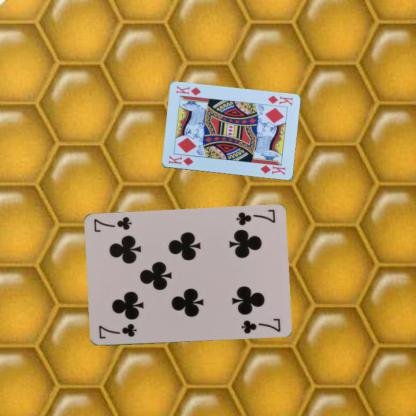7c: (233, 207, 277, 227), (95, 322, 138, 340)
Kd: (265, 93, 294, 107), (166, 153, 194, 167)
